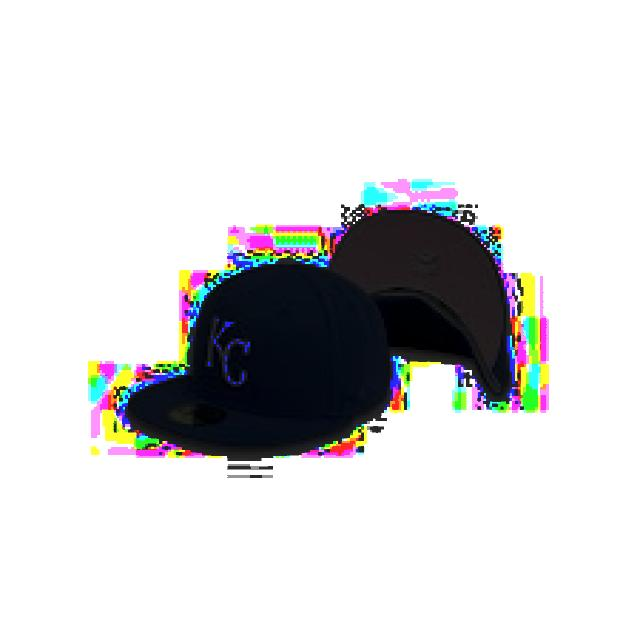TOPI: (125, 256, 390, 447), (321, 199, 515, 401)
